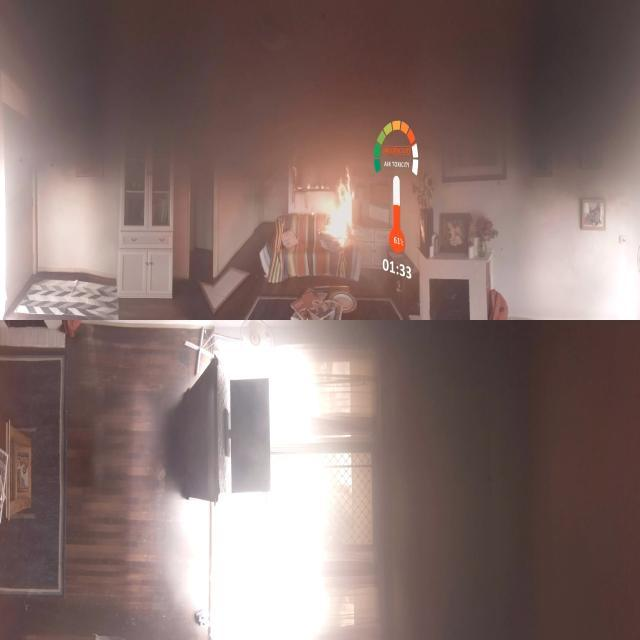Fire: (330, 163, 356, 258)
